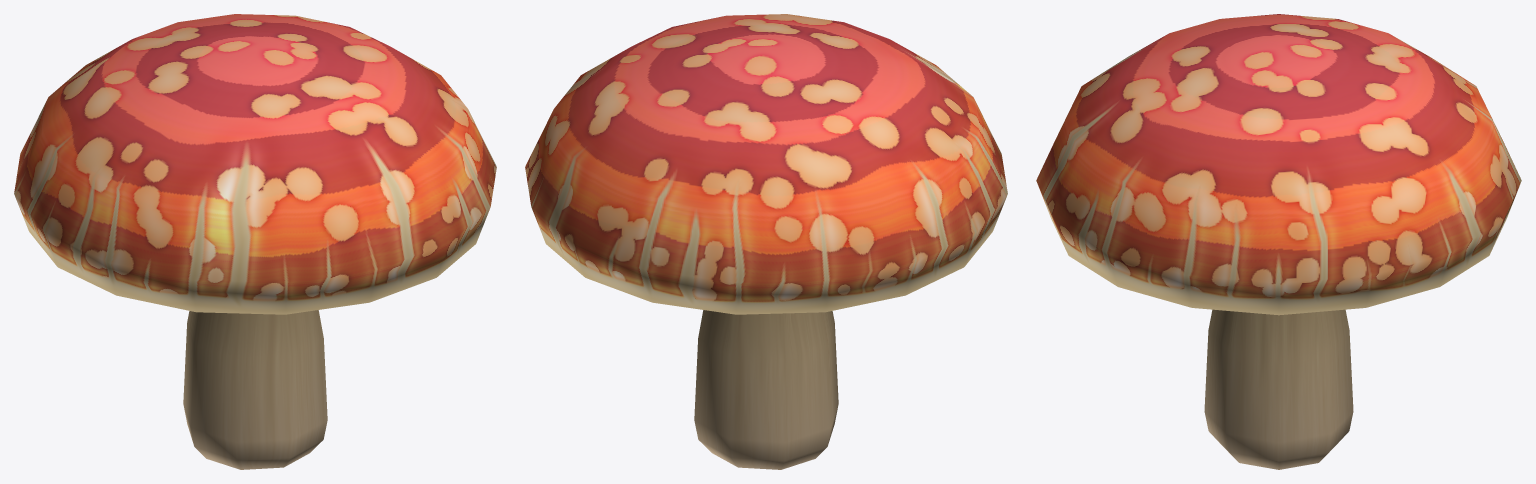
Rendered from VEG0110007.fbx.
3 renders of one model, left to right at view 1: azimuth 30°, elevation 25°; view 2: azimuth 150°, elevation 25°; view 3: azimuth 270°, elevation 25°, orthographic.
Visible parts, largest first — view 1: smVEG0110007; view 2: smVEG0110007; view 3: smVEG0110007.
Boxes of the visible parts, x1,y1,x2,y2 form: smVEG0110007: [14, 14, 496, 469]; smVEG0110007: [525, 14, 1007, 469]; smVEG0110007: [1036, 14, 1521, 469].
Bounding box in the file's own units: 31.21 × 28.66 × 31.21.
Materials: 1 (1 with a texture image).
